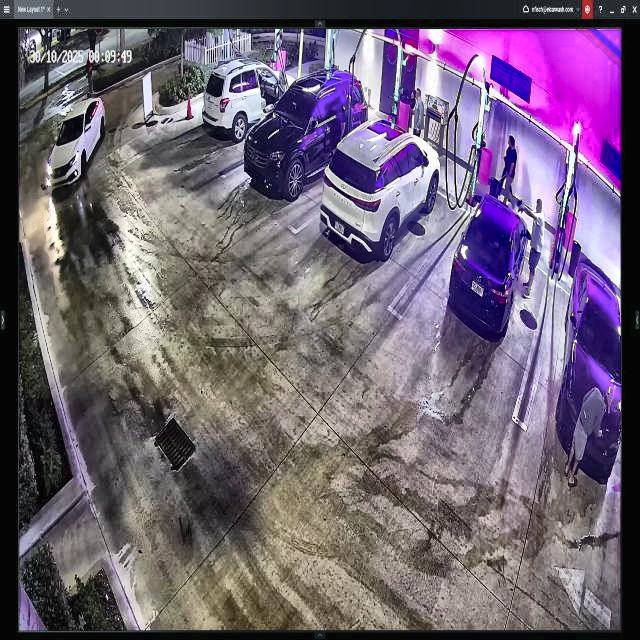Car: (318, 122, 441, 256), (244, 64, 366, 198), (450, 192, 529, 340)
